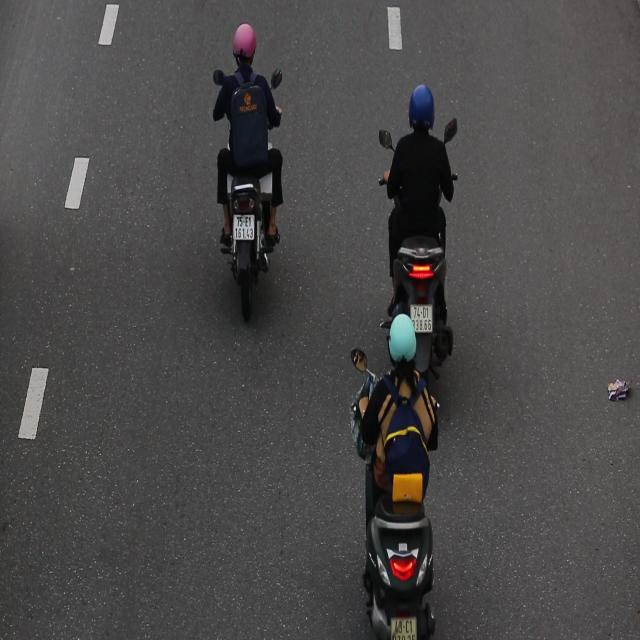motorbike: (348, 309, 446, 640), (205, 22, 290, 329), (379, 82, 462, 394)
